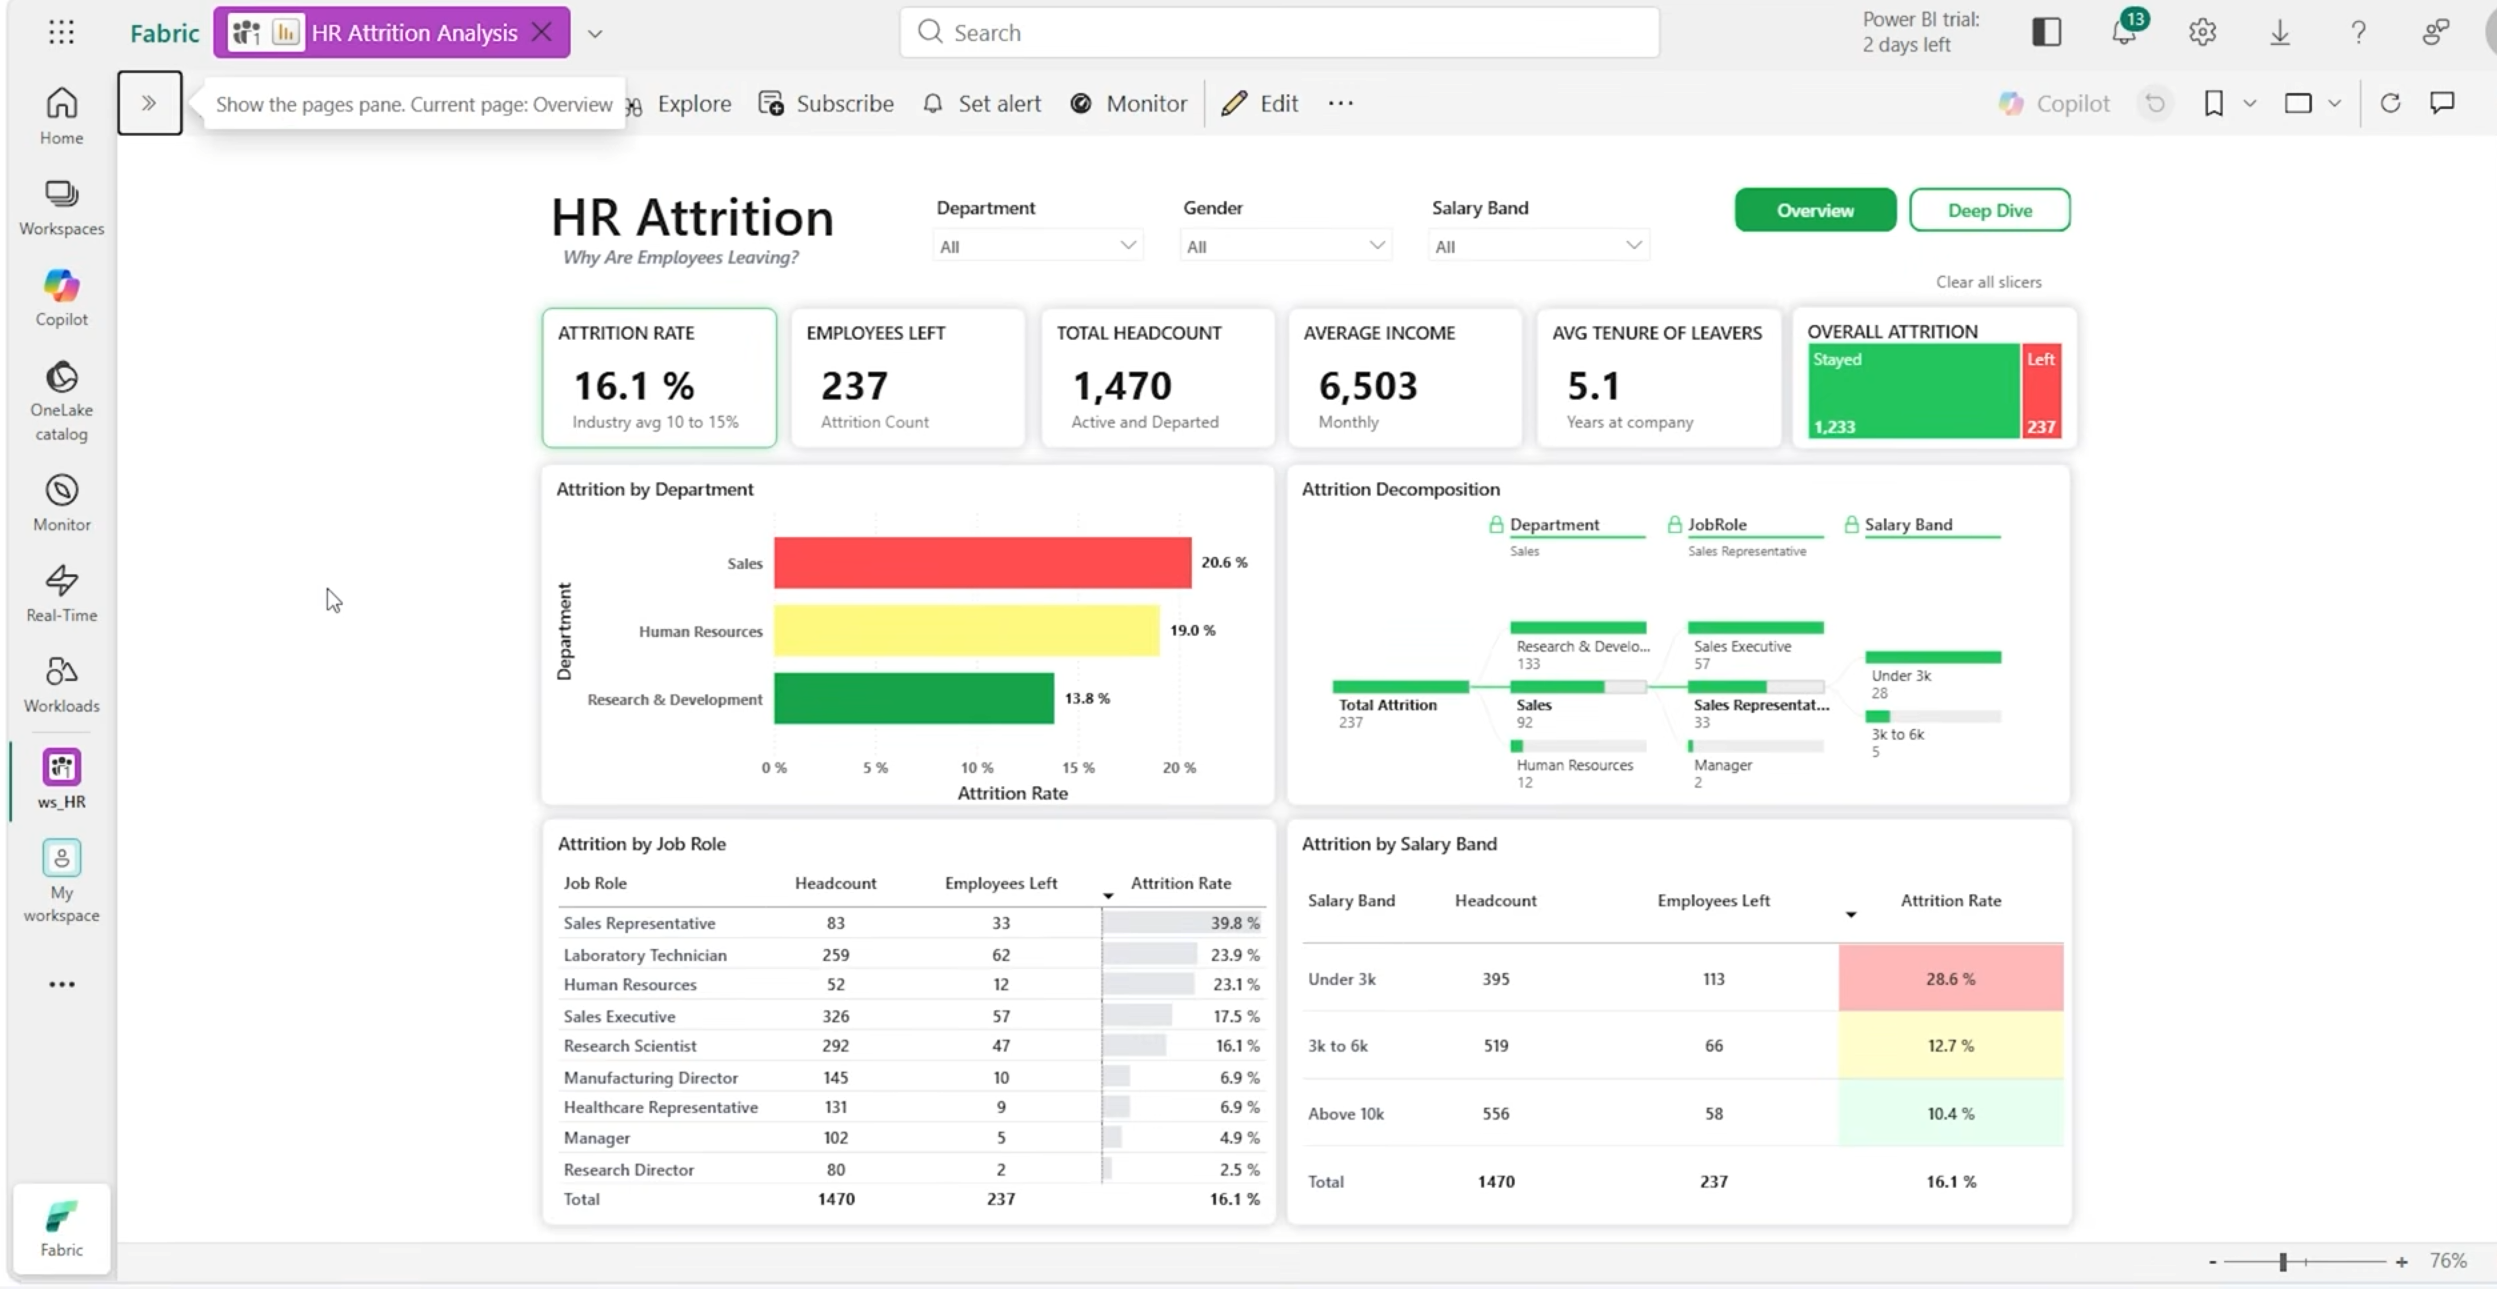

Layout of this report page (visuals, bound fields, positions):
{"tool":"powerbi","page":{"name":"Overview","canvas":[1280,900],"ordinal":0},"visuals":[{"type":"textbox","box":[10.8,13.9,244,65.1],"z":0},{"type":"textbox","box":[20.9,66.6,244,24],"z":1000},{"type":"slicer","fields":{"Values":["HR-Employee-Attrition.Department"]},"box":[314.5,13.9,196.7,62.7],"z":2000},{"type":"slicer","fields":{"Values":["HR-Employee-Attrition.Salary Band "]},"box":[749.7,13.9,196.7,62.7],"z":3000},{"type":"slicer","fields":{"Values":["HR-Employee-Attrition.Gender"]},"box":[529.8,14.7,196.7,62.7],"z":4000},{"type":"actionButton","box":[1151.7,48,122.4,29.4],"z":5000},{"type":"pageNavigator","box":[974.4,13.9,299.7,27.9],"z":6000},{"type":"cardVisual","title":"ATTRITION RATE","fields":{"Data":["Measures (2).Attrition Rate"]},"box":[10.8,168.8,200,114],"z":7000},{"type":"cardVisual","title":"AVERAGE INCOME ","fields":{"Data":["Measures (2).Avg_monthly_income"]},"box":[628.1,168.8,181.2,113.9],"z":8000},{"type":"cardVisual","title":"AVG TENURE OF LEAVERS","fields":{"Data":["Measures (2).Avg Tenure of Leavers"]},"box":[820.2,168.8,188.2,113.9],"z":9000},{"type":"cardVisual","title":"EMPLOYEES LEFT","fields":{"Data":["Measures (2).Employee Left"]},"box":[214.5,168.8,199.1,113.9],"z":10000},{"type":"cardVisual","title":"TOTAL HEADCOUNT","fields":{"Data":["Measures (2).Total Headcount"]},"box":[420.6,168.8,188.2,113.9],"z":11000},{"type":"treemap","title":"OVERALL ATTRITION ","fields":{"Values":["Measures (2).Employees Left","Measures (2).Employees Stayed"]},"box":[1032.4,168.8,238.6,108.4],"z":12000},{"type":"barChart","title":"Attrition by Department","fields":{"Category":["HR-Employee-Attrition.Department"],"Y":["Measures (2).Attrition Rate"]},"box":[10.8,288.9,597.9,309.8],"z":13000},{"type":"decompositionTreeVisual","title":"Attrition Decomposition","fields":{"Analyze":["Measures (2).Employees Left"],"ExplainBy":["HR-Employee-Attrition.Department","HR-Employee-Attrition.JobRole","HR-Employee-Attrition.Salary Band "]},"box":[628.1,288.9,642.9,309.8],"z":13001},{"type":"pivotTable","title":"Attrition by Job Role","fields":{"Rows":["HR-Employee-Attrition.JobRole"],"Values":["Measures (2).Total Headcount","Measures (2).Employee Left","Measures (2).Attrition Rate"]},"box":[10.8,606.5,597.9,279.6],"z":13002},{"type":"pivotTable","title":"Attrition by Salary Band","fields":{"Rows":["HR-Employee-Attrition.Salary Band "],"Values":["Measures (2).Total Headcount","Measures (2).Employees Left","Measures (2).Attrition Rate"]},"box":[628.1,605.7,642.9,280.4],"z":13003}]}

Visuals, with their boxes on the page's 1280x900 design canvas (x1, y1, x2, y2). These are canvas units, not pixel positions in the 2497x1289 screenshot, which may show the page scaled, cropped or inside an application window:
textbox: 11:14:255:79
textbox: 21:67:265:91
slicer - HR-Employee-Attrition.Department: 314:14:511:77
slicer - HR-Employee-Attrition.Salary Band : 750:14:946:77
slicer - HR-Employee-Attrition.Gender: 530:15:726:77
actionButton: 1152:48:1274:77
pageNavigator: 974:14:1274:42
"ATTRITION RATE" cardVisual: 11:169:211:283
"AVERAGE INCOME " cardVisual: 628:169:809:283
"AVG TENURE OF LEAVERS" cardVisual: 820:169:1008:283
"EMPLOYEES LEFT" cardVisual: 214:169:414:283
"TOTAL HEADCOUNT" cardVisual: 421:169:609:283
"OVERALL ATTRITION " treemap: 1032:169:1271:277
"Attrition by Department" barChart: 11:289:609:599
"Attrition Decomposition" decompositionTreeVisual: 628:289:1271:599
"Attrition by Job Role" pivotTable: 11:606:609:886
"Attrition by Salary Band" pivotTable: 628:606:1271:886
